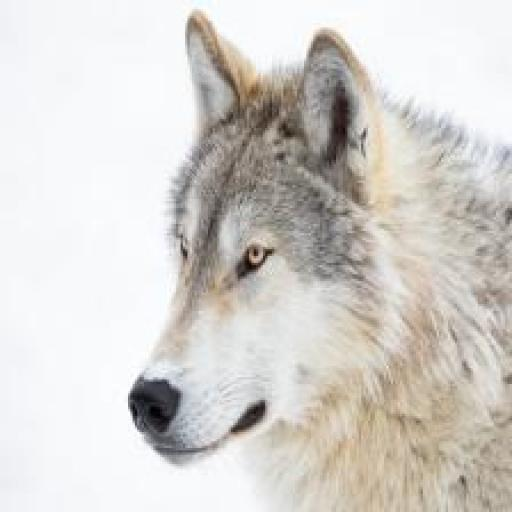wolf: (121, 2, 512, 512)
